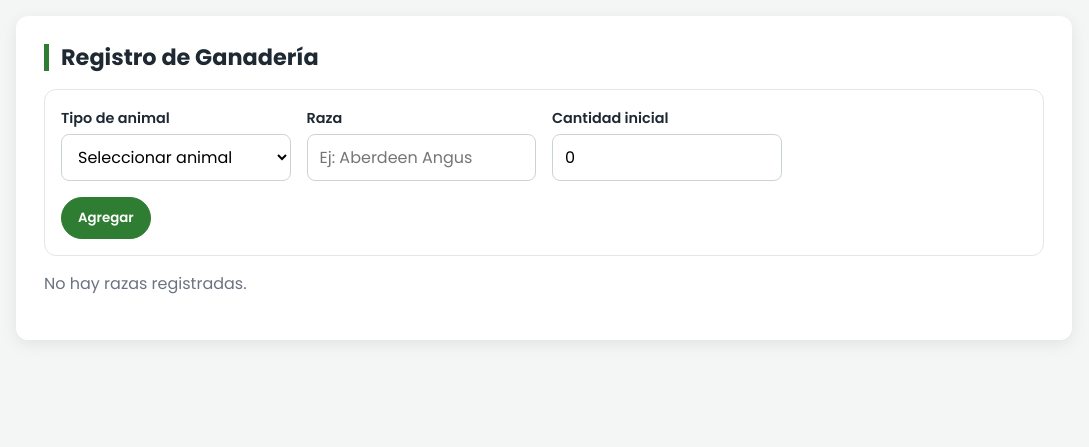
Scenario: Ganadería › agrega una raza, suma con +1 y la guarda en localStorage
Select "Vaca" in the dropdown labelled "Tipo de animal". click: {"x": 176, "y": 158}
box: [61, 134, 290, 182]
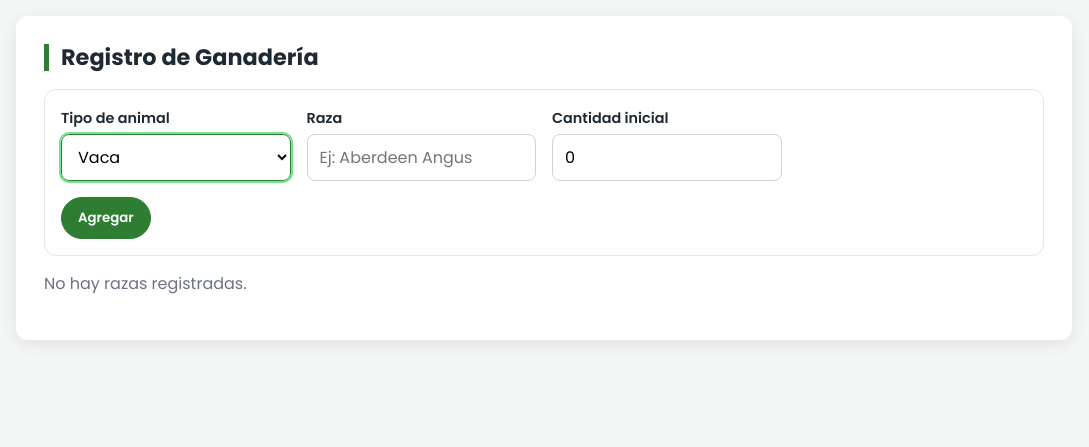
Type "Angus" into the field labelled "Raza". click: {"x": 421, "y": 158}
box: [306, 134, 536, 182]
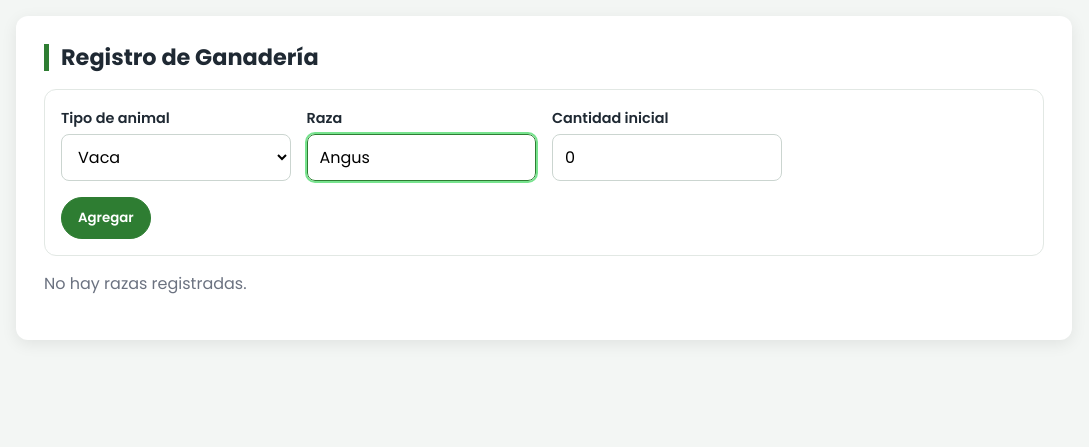
Type "5" into the field labelled "Cantidad inicial". click: {"x": 667, "y": 158}
box: [552, 134, 782, 182]
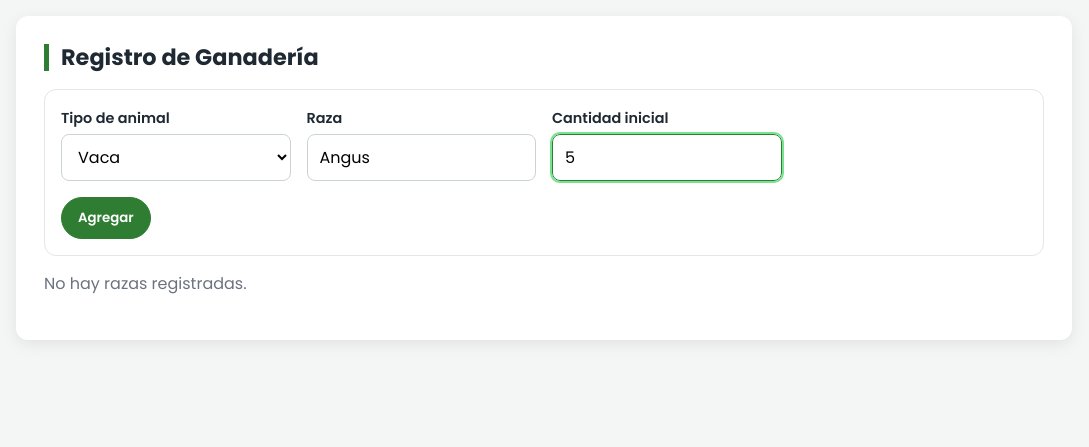
Click the button "Agregar". click: {"x": 106, "y": 218}
box: [61, 198, 151, 240]
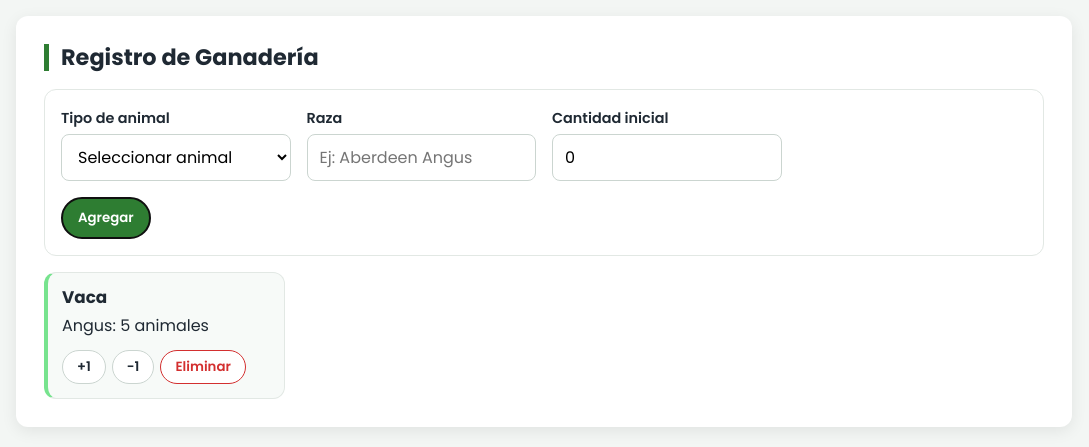
expect the list item shows "Angus: 5 animales": met, box [44, 272, 285, 399]
Click the button named "Sumar un animal a Angus". click: {"x": 84, "y": 367}
box: [62, 350, 106, 384]
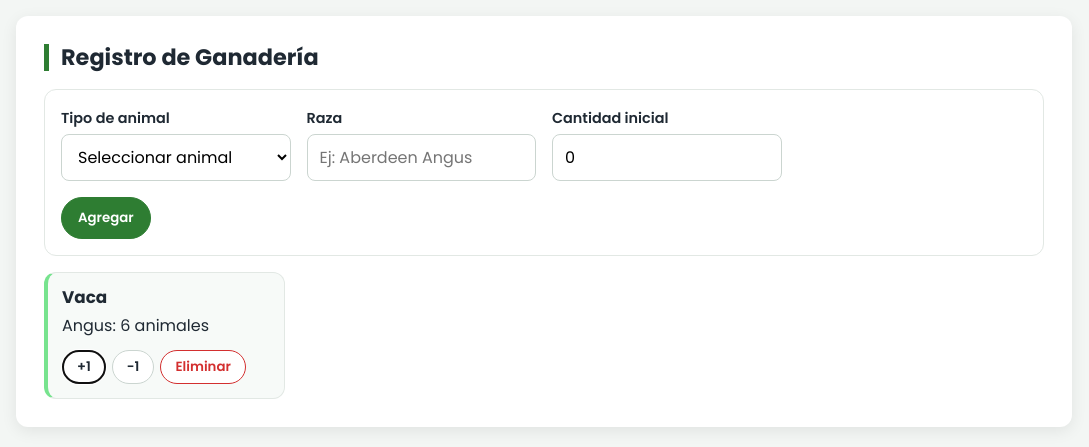
expect the list item shows "Angus: 6 animales": met, box [44, 272, 285, 399]
